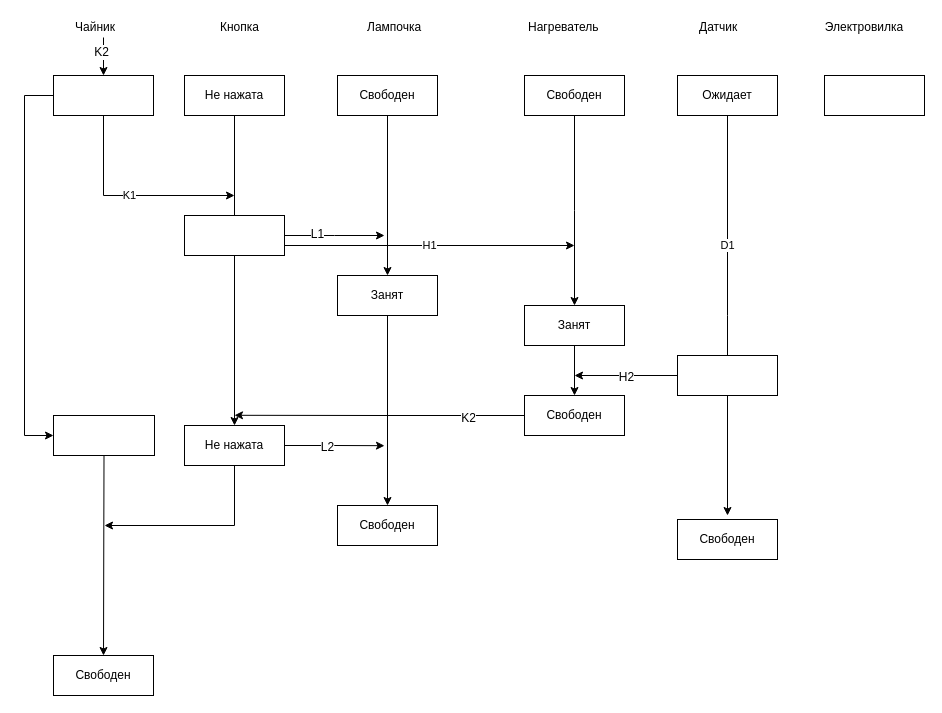
Some shapes in this 942 by 713 pixel diagram are drawn without their labels. The shapes that lost their labels are listed below. From the top down, each one's box as (x1, y1, x2, y2) in pixels, then its label:
(52, 74, 154, 116): Чайник включен
(824, 74, 924, 116): Подключена
(184, 214, 284, 256): Нажата
(676, 354, 778, 396): Подача сигнала
(52, 414, 154, 456): Чайник работает
